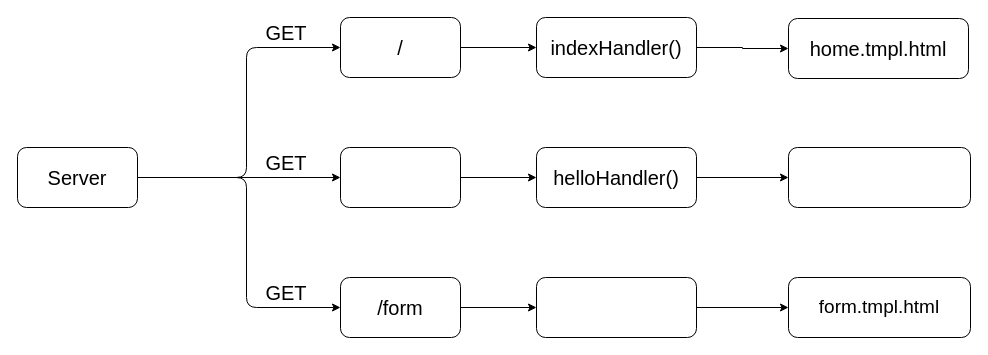
Some shapes in this 988 by 355 pixel diagram are drawn without their labels. Each missing label, with the centre of its shape:
/hello: pixel 400 177
formHandler(): pixel 616 307
hello.tmpl.html: pixel 879 177
